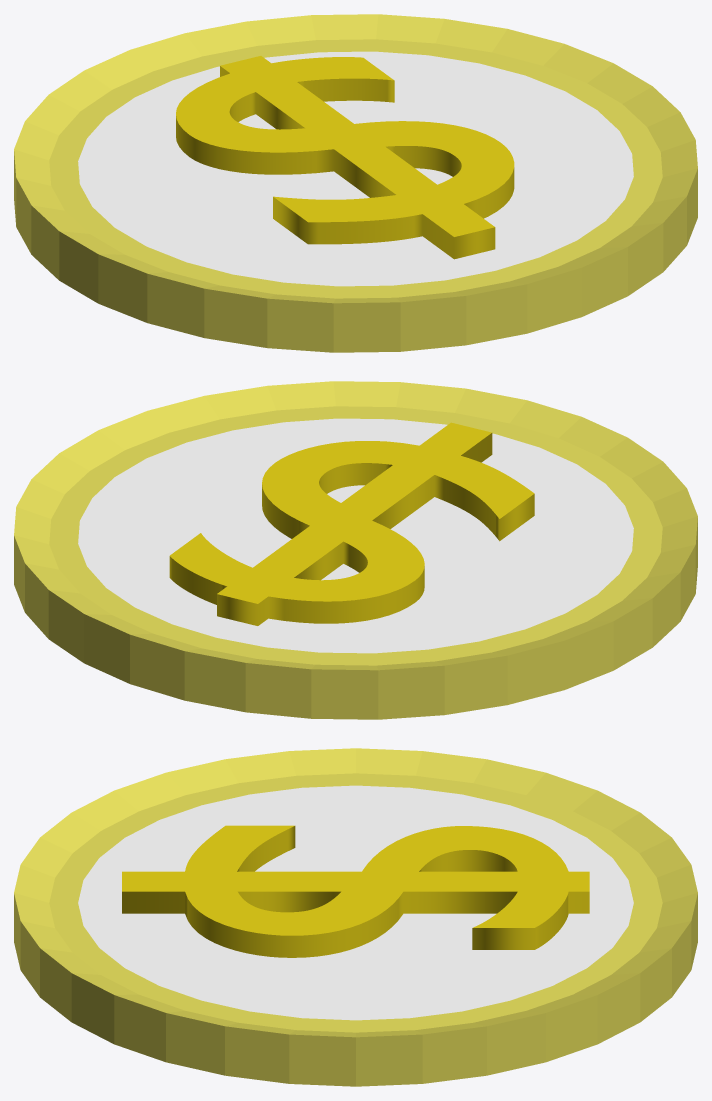
File: coin.glb
3 views of the same model, one above another, from view 1: azimuth 30°, elevation 25°; view 2: azimuth 150°, elevation 25°; view 3: azimuth 270°, elevation 25° (orthographic).
Visible parts, largest first — view 1: Cylinder, Text; view 2: Cylinder, Text; view 3: Cylinder, Text.
Part boxes in pixels (x1=…): Cylinder: x1=14, y1=14, x2=697, y2=352; Text: x1=176, y1=56, x2=514, y2=259; Cylinder: x1=14, y1=381, x2=697, y2=719; Text: x1=169, y1=422, x2=534, y2=625; Cylinder: x1=14, y1=748, x2=697, y2=1086; Text: x1=122, y1=825, x2=589, y2=957.
Size of the model in its own units: 2 by 0.1979 by 2.
